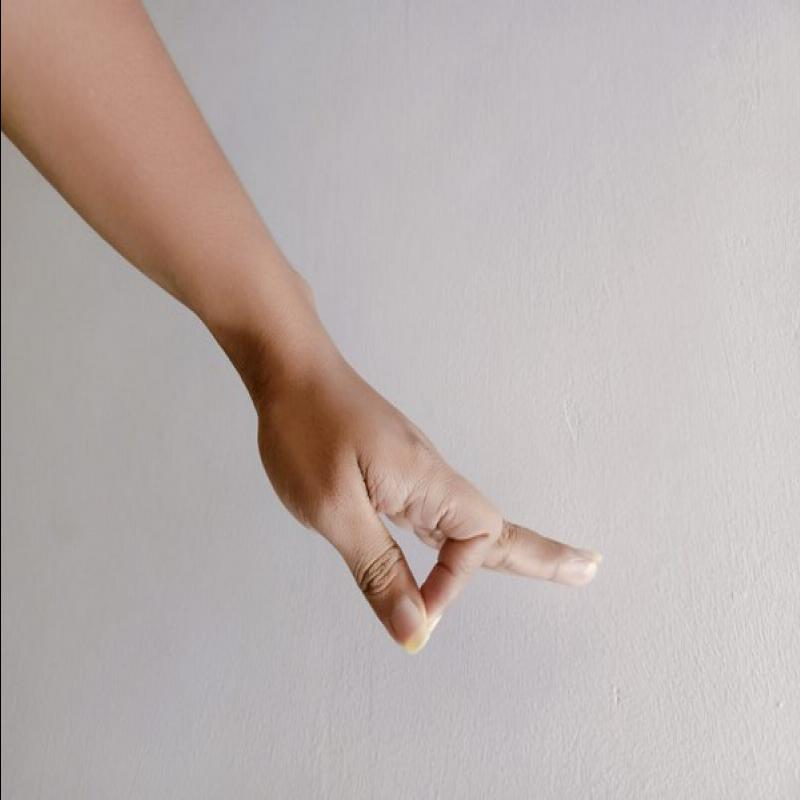Mudraakhyam: (242, 345, 608, 658)
